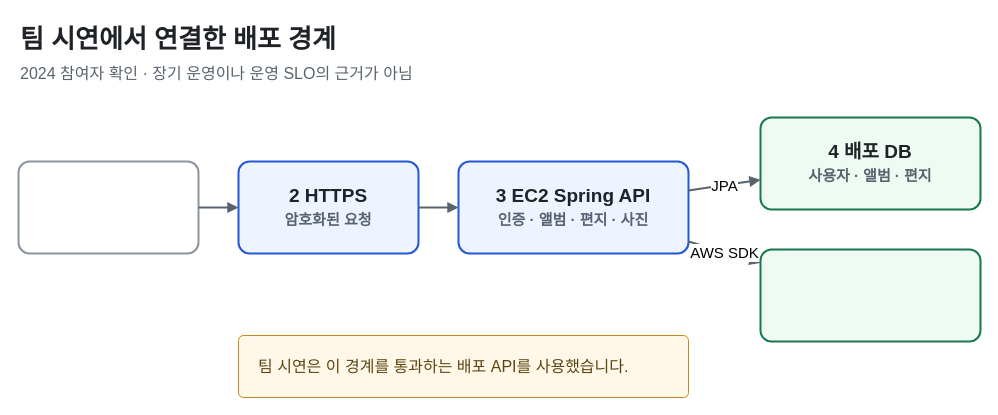
Image size: 998x415. Some labels were removed from this diagram. Here are the shapes that lost their labels. From the top down, the centre of each, then its label:
(x=108, y=207): 1 프론트엔드 팀 데모 화면
(x=870, y=295): 4 S3 사진 파일 · URL
